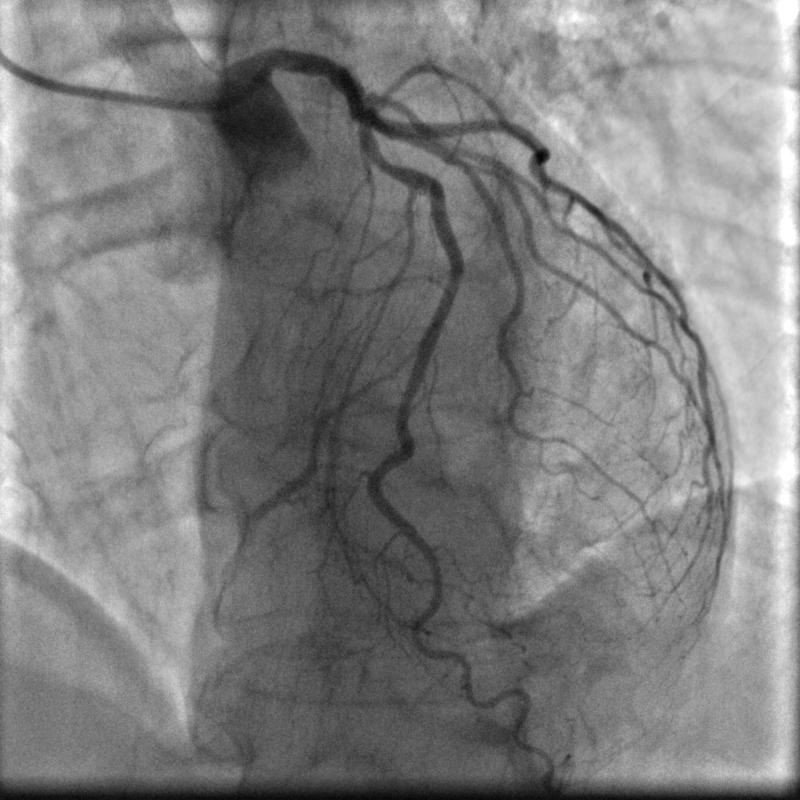Stenosis: (368, 147, 399, 172)
